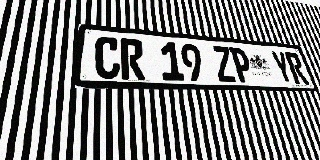1: (159, 41, 185, 81)
9: (180, 43, 205, 81)
C: (94, 36, 120, 79)
P: (229, 47, 255, 83)
R: (120, 38, 145, 80), (284, 52, 309, 84)
Y: (270, 51, 295, 84)
Z: (211, 46, 237, 82)
